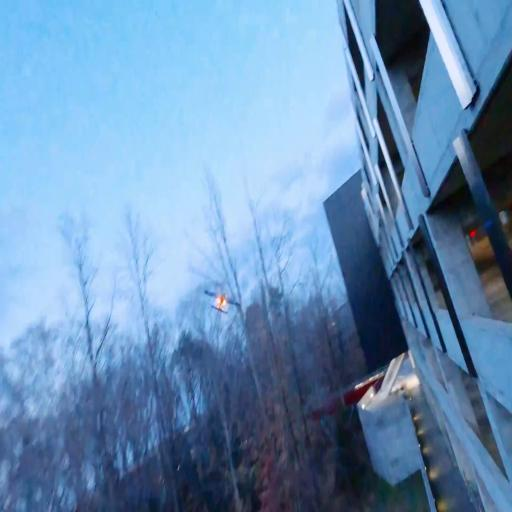uav: (200, 282, 242, 320)
